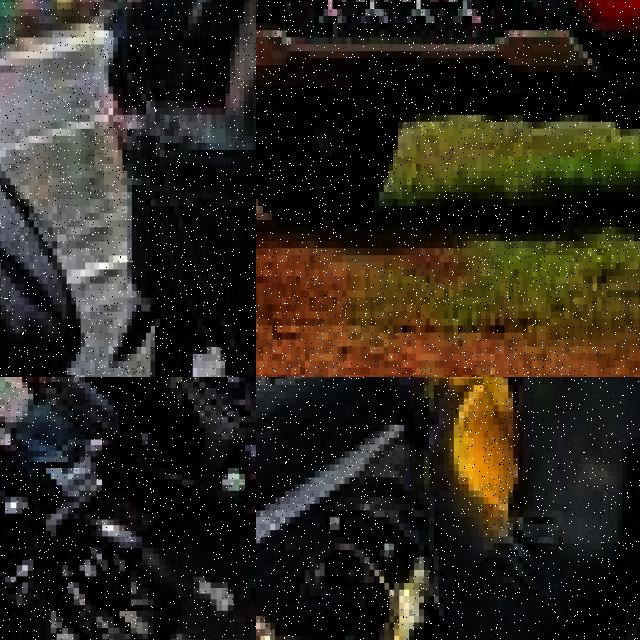bike: (0, 0, 239, 377), (384, 377, 640, 640), (122, 0, 256, 377), (0, 393, 188, 640), (27, 377, 256, 519)
car: (256, 0, 640, 255)
